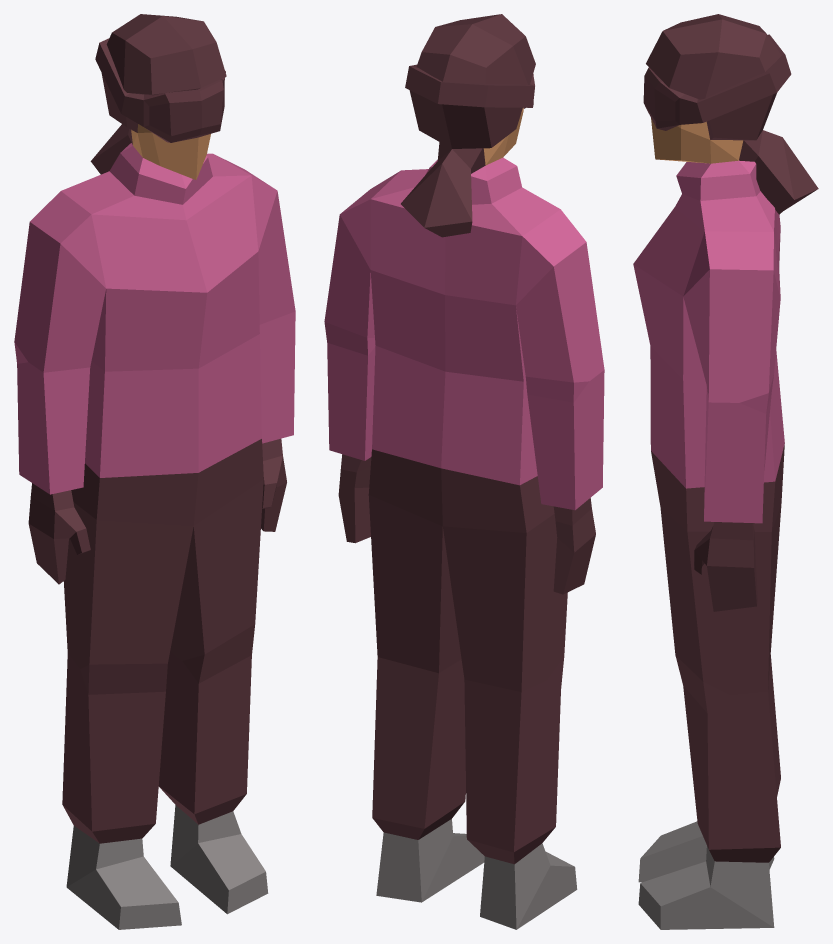
File: woman-ski.fbx
3 views of the same model, side by side, from view 1: azimuth 30°, elevation 25°; view 2: azimuth 150°, elevation 25°; view 3: azimuth 270°, elevation 25° (orthographic).
Visible parts, largest first — view 1: woman-ski; view 2: woman-ski; view 3: woman-ski.
Boxes of the visible parts, x1,y1,x2,y2 form: woman-ski: (14, 14, 295, 929); woman-ski: (324, 14, 604, 929); woman-ski: (633, 14, 818, 929).
Size of the model in its own units: 0.5584 by 1.85 by 0.3556.
